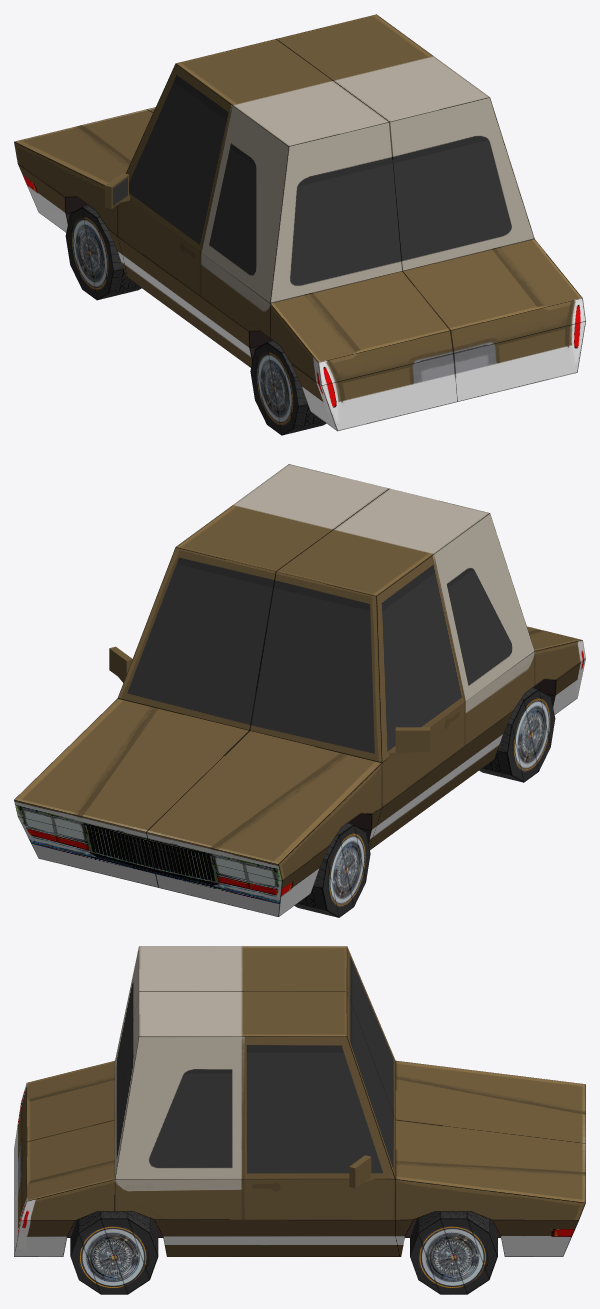
File: carPimpMobile.dae
The picture shows the model from 3 angles, top to bottom: view 1: azimuth 30°, elevation 25°; view 2: azimuth 150°, elevation 25°; view 3: azimuth 270°, elevation 25°; orthographic projection. The views are drawn at different scales.
Visible parts, largest first — view 1: body, wheel (×3); view 2: body, wheel (×3); view 3: body, wheel (×3).
Part boxes in pixels (<box>): body: <box>14,14,585,431</box>; wheel (×3): <box>65,205,326,435</box>; body: <box>14,464,585,916</box>; wheel (×3): <box>294,688,555,917</box>; body: <box>14,946,585,1256</box>; wheel (×3): <box>70,1211,497,1294</box>.
Size of the model in its own units: 195 by 153 by 323.
